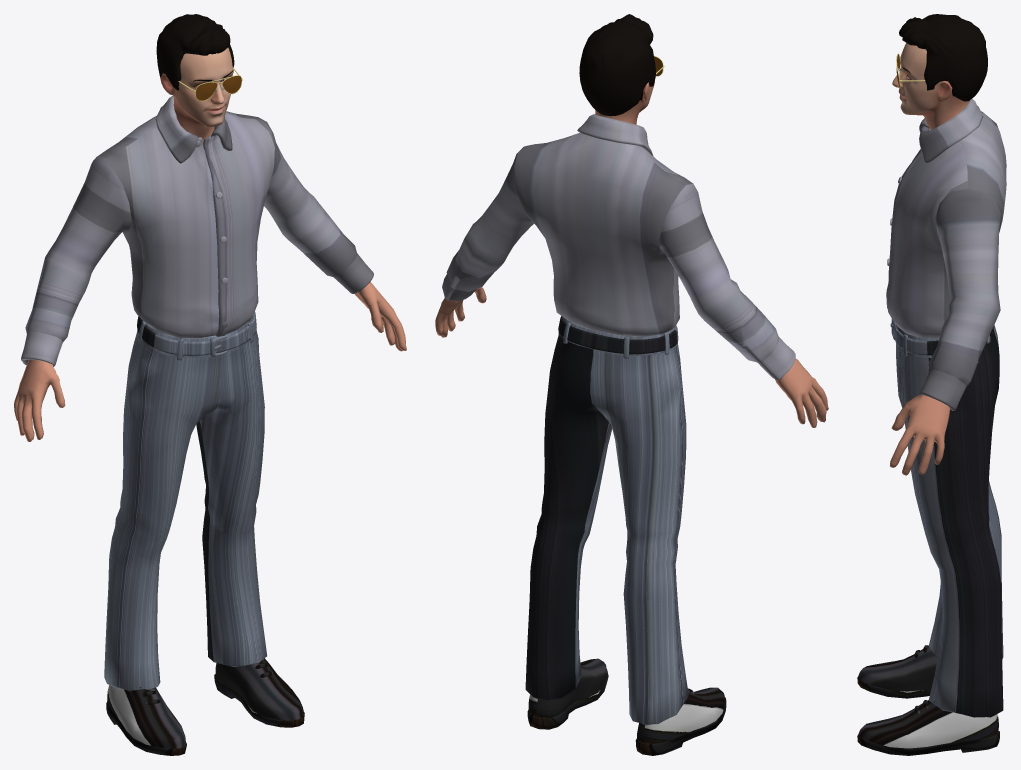
The model's file is idlee.fbx.
The picture shows the model from 3 angles, left to right: view 1: azimuth 30°, elevation 25°; view 2: azimuth 150°, elevation 25°; view 3: azimuth 270°, elevation 25°; orthographic projection.
Parts seen in each view (by area): view 1: Wolf3D_Outfit_Top, Wolf3D_Outfit_Bottom, Wolf3D_Outfit_Footwear, Wolf3D_Body, Wolf3D_Head, Wolf3D_Hair, Wolf3D_Glasses; view 2: Wolf3D_Outfit_Bottom, Wolf3D_Outfit_Top, Wolf3D_Hair, Wolf3D_Outfit_Footwear, Wolf3D_Body; view 3: Wolf3D_Outfit_Top, Wolf3D_Outfit_Bottom, Wolf3D_Outfit_Footwear, Wolf3D_Hair, Wolf3D_Head, Wolf3D_Body.
Boxes of the visible parts, x1,y1,x2,y2 form: Wolf3D_Outfit_Top: [21, 95, 373, 366]; Wolf3D_Outfit_Bottom: [104, 312, 267, 691]; Wolf3D_Outfit_Footwear: [106, 657, 304, 755]; Wolf3D_Body: [14, 282, 406, 441]; Wolf3D_Head: [160, 47, 233, 142]; Wolf3D_Hair: [156, 14, 234, 90]; Wolf3D_Glasses: [178, 67, 242, 101]; Wolf3D_Outfit_Bottom: [525, 316, 688, 725]; Wolf3D_Outfit_Top: [442, 114, 795, 380]; Wolf3D_Hair: [579, 14, 655, 116]; Wolf3D_Outfit_Footwear: [527, 658, 726, 755]; Wolf3D_Body: [435, 287, 828, 427]; Wolf3D_Outfit_Top: [886, 99, 1006, 410]; Wolf3D_Outfit_Bottom: [890, 318, 1003, 717]; Wolf3D_Outfit_Footwear: [857, 645, 999, 755]; Wolf3D_Hair: [899, 14, 987, 101]; Wolf3D_Head: [892, 43, 969, 129]; Wolf3D_Body: [889, 395, 950, 475].
Size of the model in its own units: 1.06 by 1.86 by 0.3595.
Materials: 9 (9 with a texture image).
